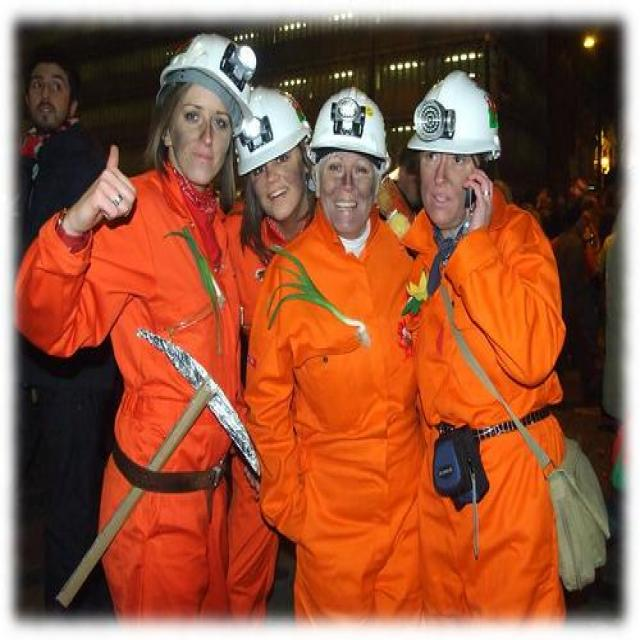Safety-Helmet: (151, 26, 262, 114), (406, 63, 506, 159), (308, 80, 397, 166), (234, 82, 311, 177)
